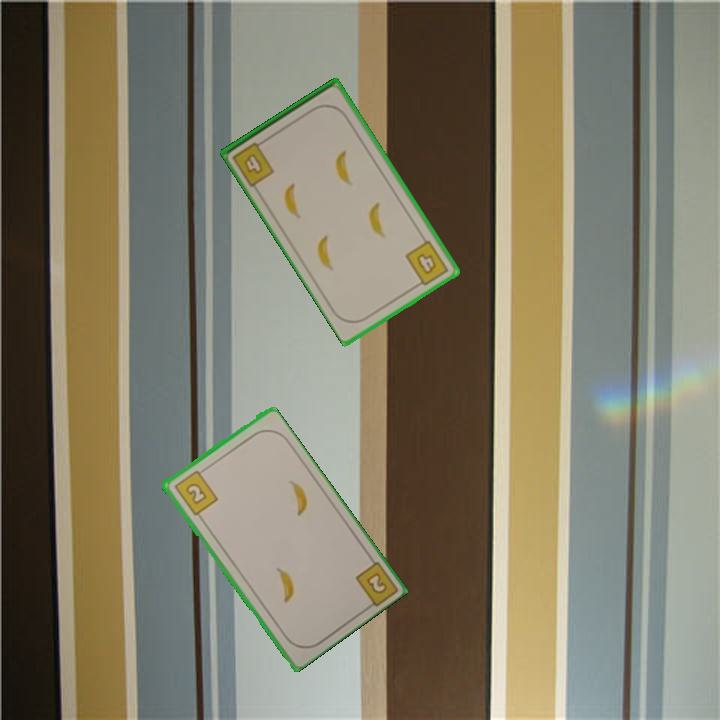2b: (170, 466, 220, 518), (362, 569, 390, 597)
4b: (402, 237, 452, 290), (229, 136, 278, 189)
